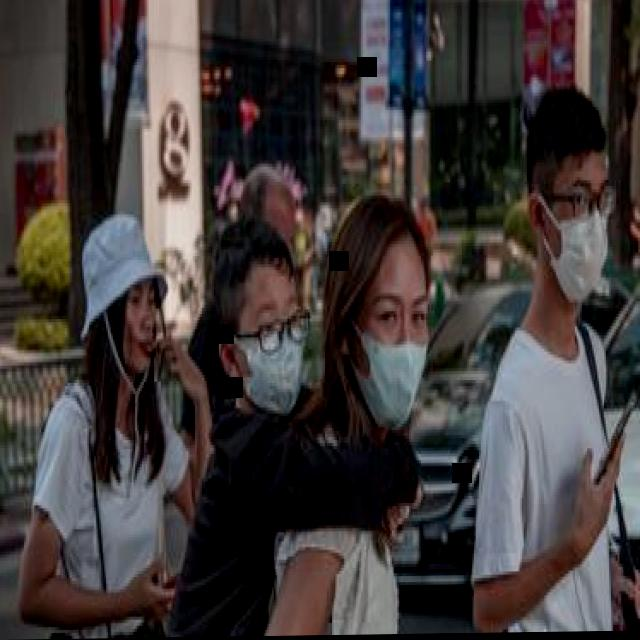Mask: (347, 251, 431, 430), (538, 166, 614, 307), (235, 274, 309, 415)
NO-Mask: (118, 288, 156, 375), (266, 201, 296, 267)
